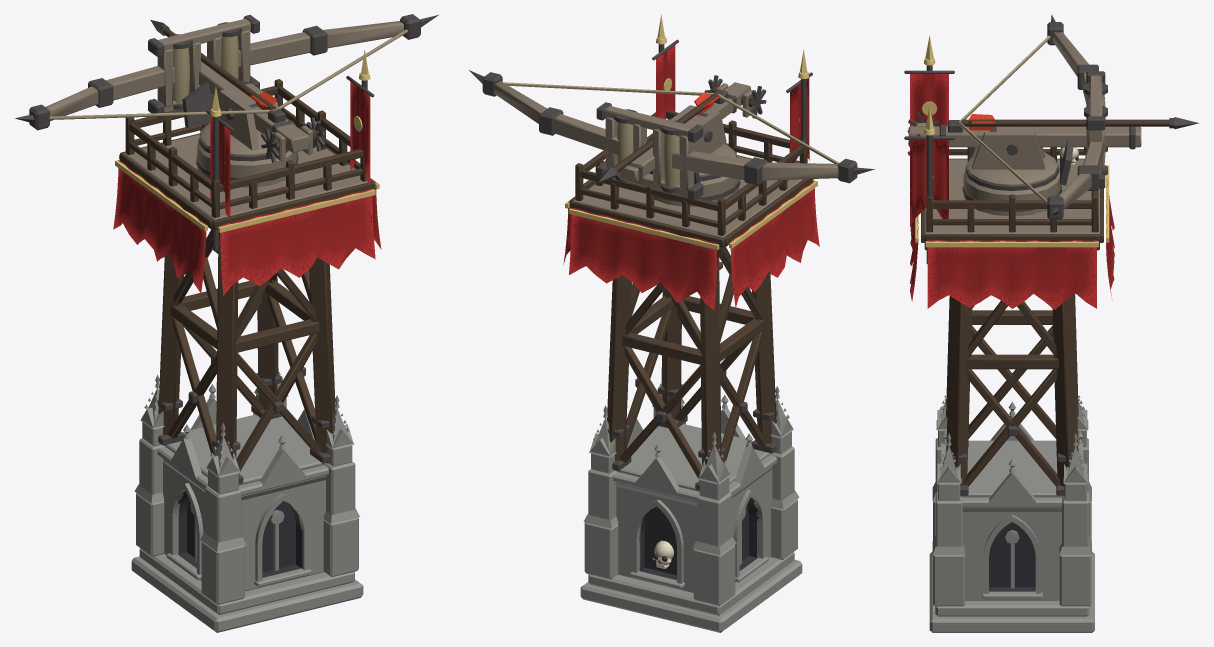
The model's file is tower_arrow_3.glb.
3 renders of one model, left to right at view 1: azimuth 30°, elevation 25°; view 2: azimuth 150°, elevation 25°; view 3: azimuth 270°, elevation 25°, orthographic. The views are drawn at different scales.
Visible parts, largest first — view 1: tower, turret; view 2: tower, turret; view 3: tower, turret.
Boxes of the visible parts, box(x1,y1,x2,y2) form: tower: box(113, 50, 381, 632); turret: box(15, 14, 438, 162); tower: box(563, 15, 819, 632); turret: box(469, 70, 874, 200); tower: box(904, 36, 1114, 632); turret: box(907, 14, 1199, 219).
Bounding box in the file's own units: 4.86 × 6 × 3.03.
